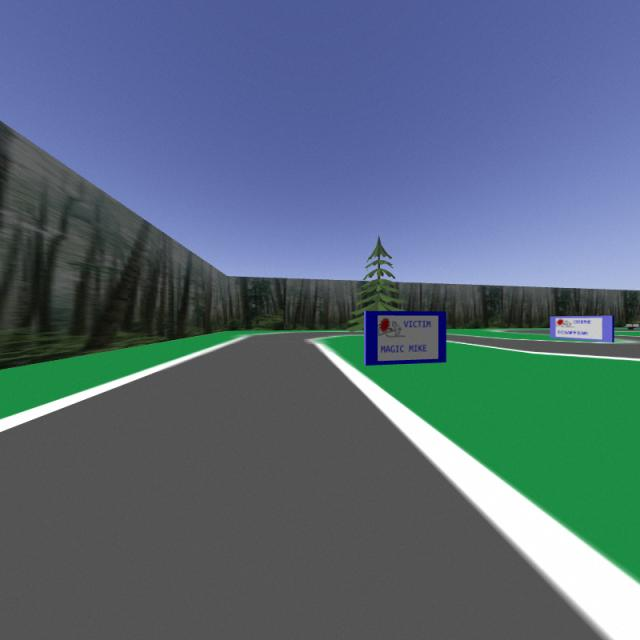clueboard: (360, 305, 451, 371), (546, 313, 618, 347)
